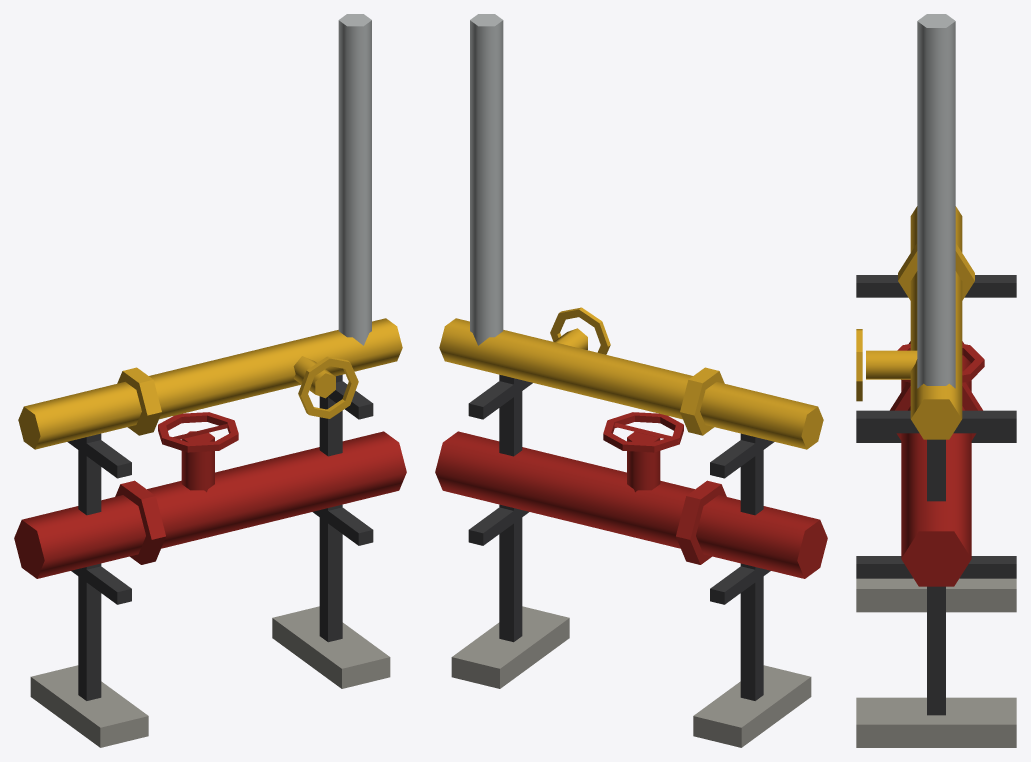
File: pipe_manifold.glb
3 views of the same model, side by side, from view 1: azimuth 30°, elevation 25°; view 2: azimuth 150°, elevation 25°; view 3: azimuth 270°, elevation 25° (orthographic). The views are drawn at different scales.
Parts seen in each view (by area): view 1: pipe_manifold; view 2: pipe_manifold; view 3: pipe_manifold.
Part boxes in pixels (x1,y1,x2,y2): pipe_manifold: (14,14,406,747); pipe_manifold: (435,14,827,747); pipe_manifold: (856,14,1016,747).
Size of the model in its own units: 1.5 by 2.5 by 0.5.
1 material, 1 textured.
